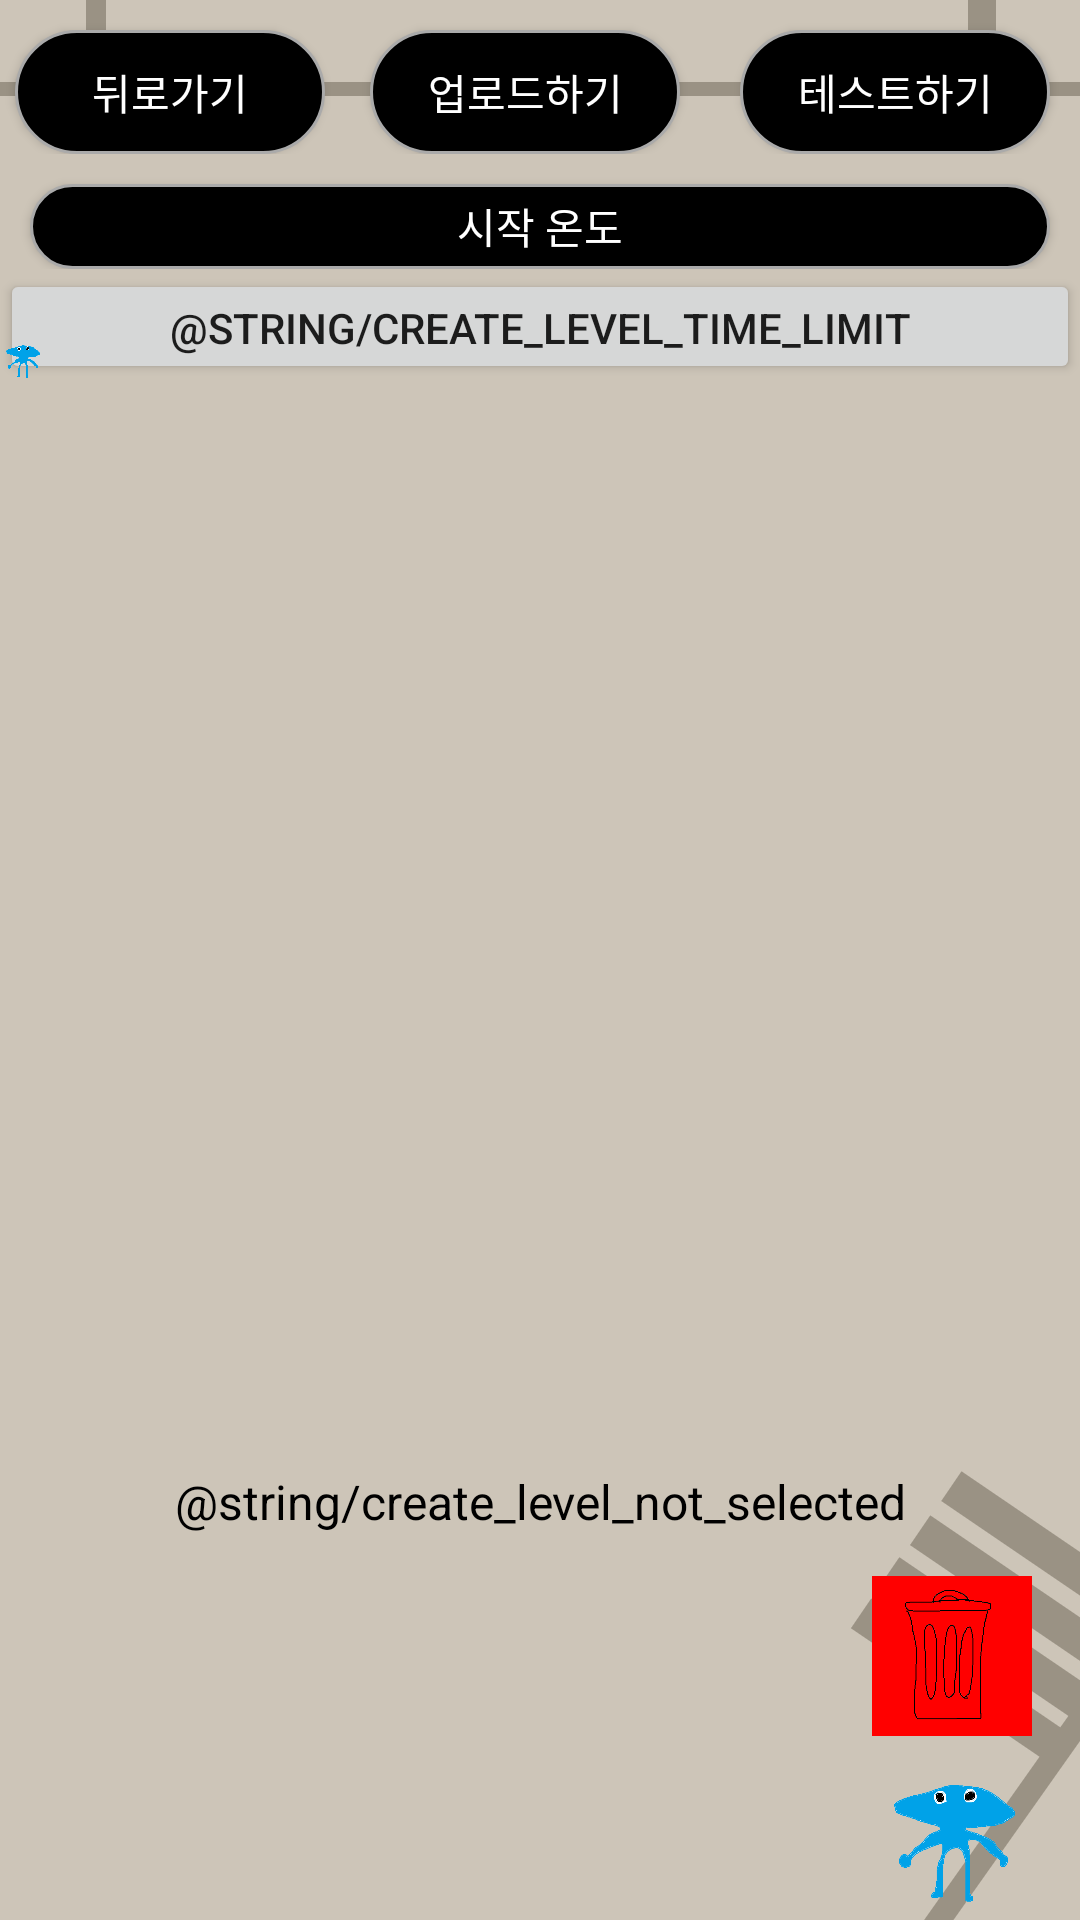

Where to tap for icons on this 1080 × 1920 app screen, as (x,y):
character: (22,357), (963,1828)
trash can: (952,1656)
